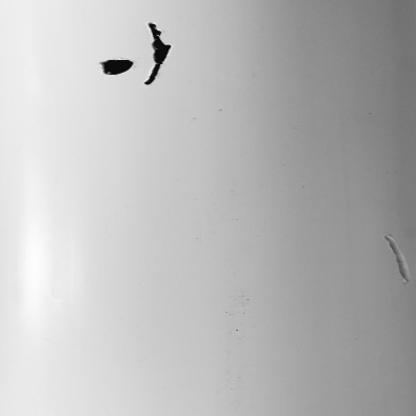kongdong: (142, 21, 175, 84), (100, 57, 134, 77)
sunshang: (382, 234, 413, 286)
